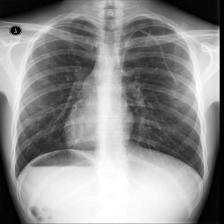normal: (8, 10, 210, 188)
